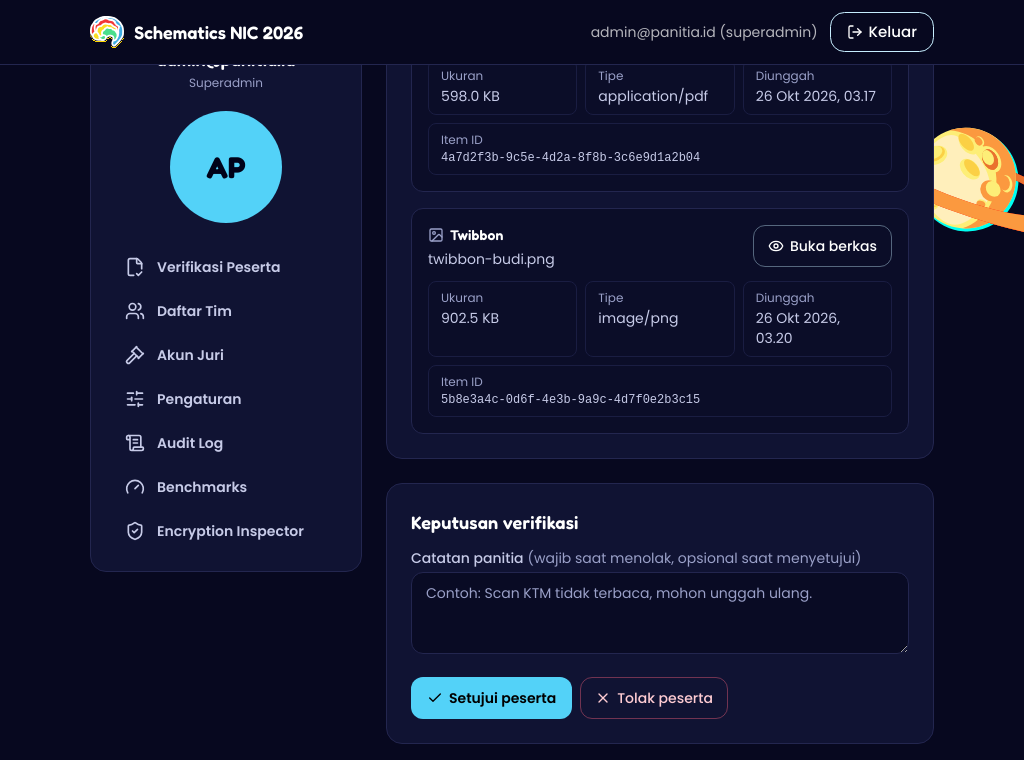
Test case: Superadmin participant verification › approves a participant and reflects the new status without a reload
(page scrolled)
Click the button with test id "approve-btn". click: point(492, 698)
box: [411,677,572,719]
(page scrolled)
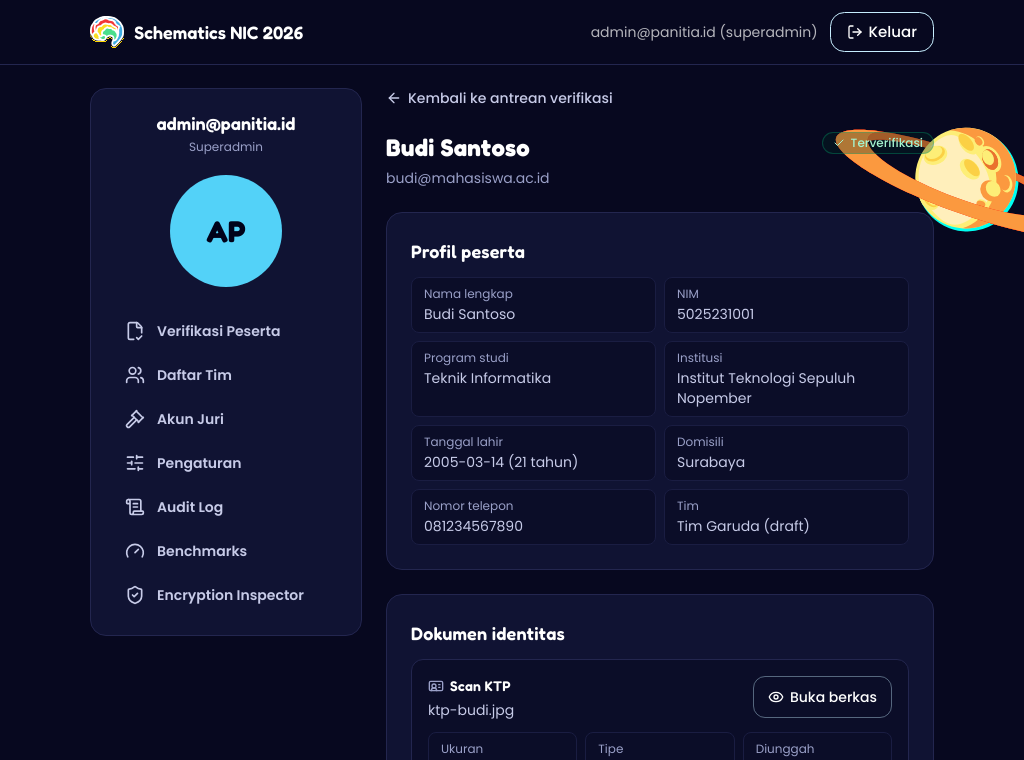
Result: the element with test id "verification-status" reads "Terverifikasi" at [851,134,923,151]
